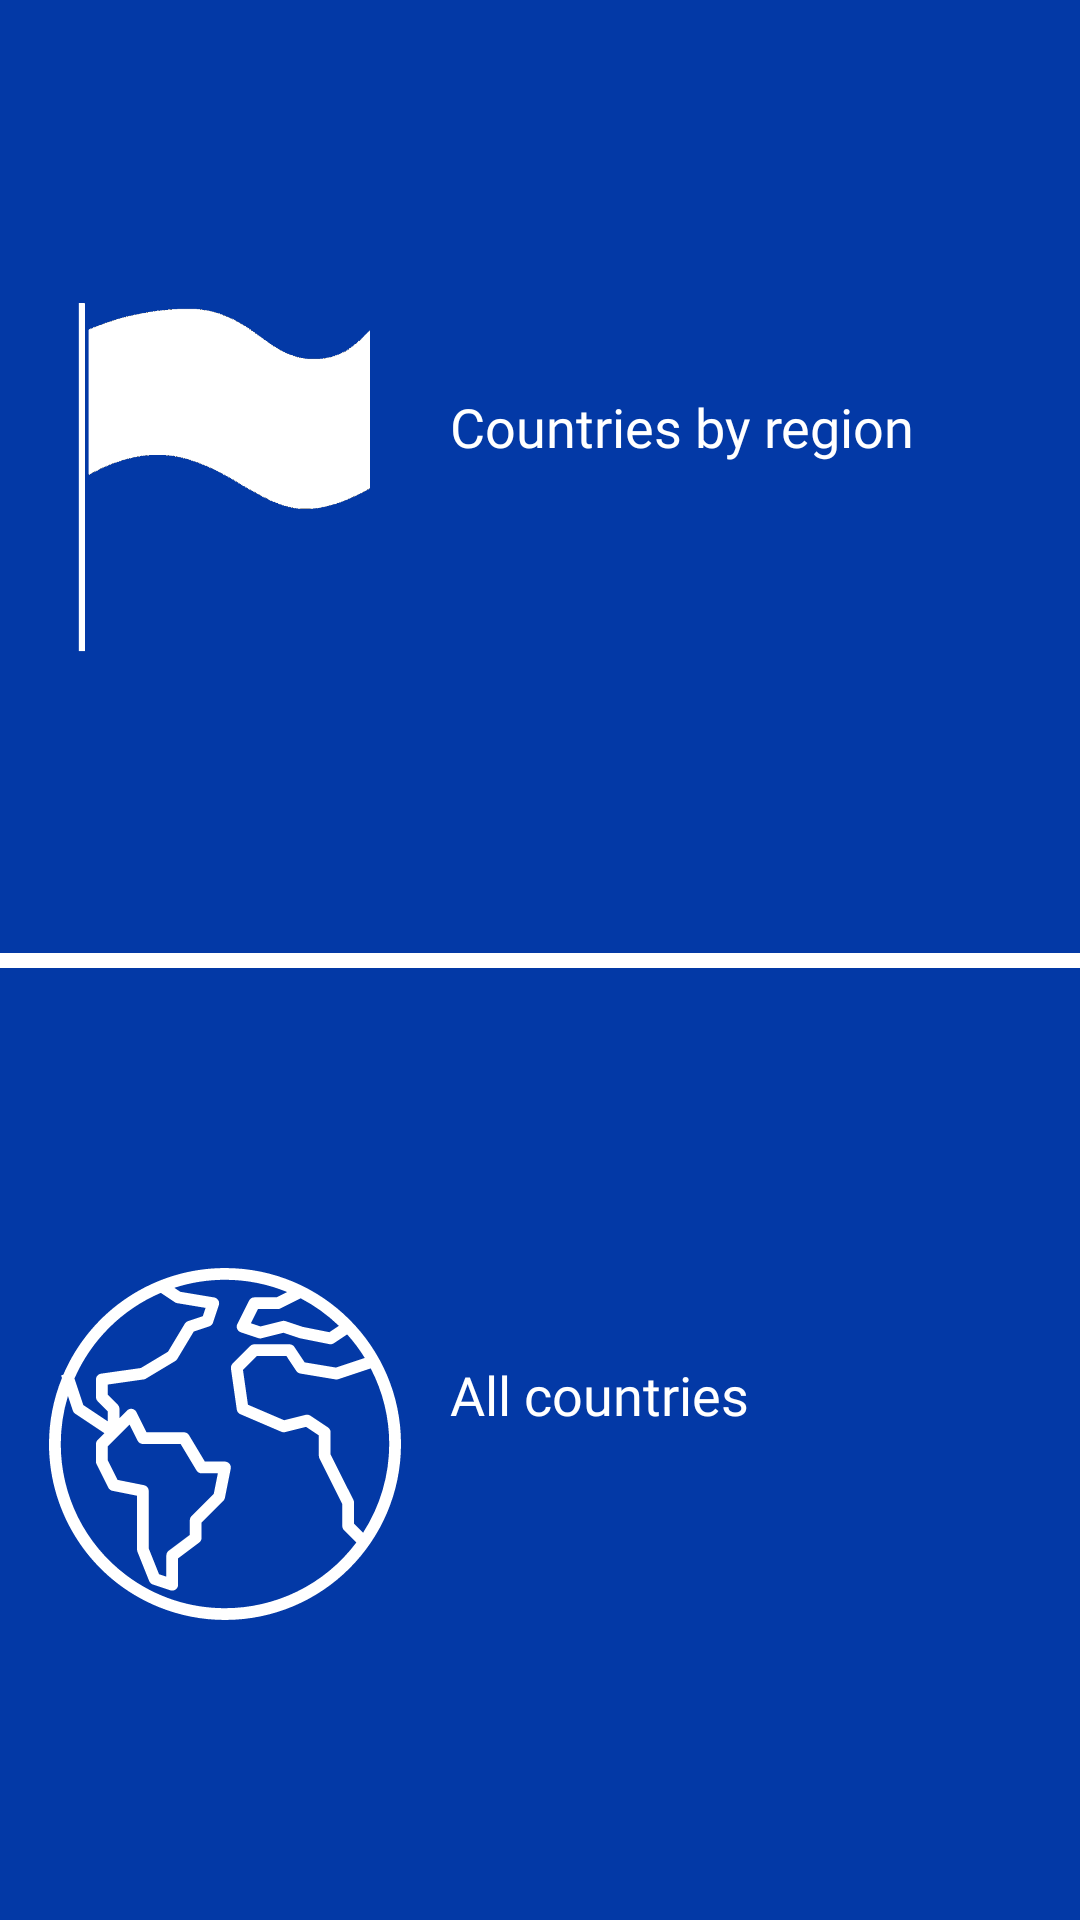

Icons on this 1080*1920 Android screen, each with its box as [x1=x1, y1=y1, x2=x2, y2=y2]:
flag: [x1=78, y1=303, x2=370, y2=651]
worldwide: [x1=49, y1=1268, x2=401, y2=1620]
